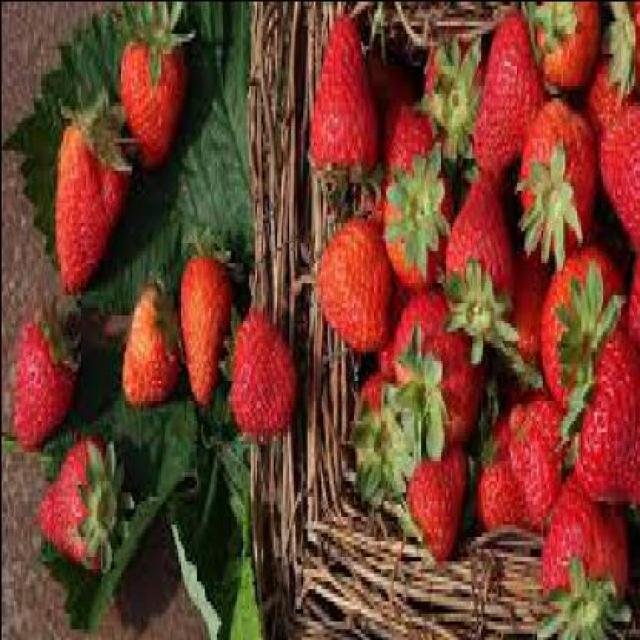BIODEGRADABLE: (9, 2, 261, 639), (355, 291, 479, 502), (310, 15, 381, 228), (55, 94, 130, 293), (445, 171, 516, 363), (541, 248, 622, 416), (518, 100, 596, 267), (384, 106, 449, 289), (474, 10, 544, 178), (576, 326, 640, 502), (38, 436, 120, 571), (120, 2, 186, 168), (544, 476, 628, 594), (318, 219, 392, 351), (354, 340, 411, 503), (12, 313, 78, 448), (230, 308, 296, 442), (501, 395, 562, 527), (446, 171, 512, 293), (179, 255, 232, 406), (478, 376, 524, 531), (122, 284, 180, 406), (422, 36, 479, 159), (406, 445, 466, 561), (526, 2, 598, 88), (600, 104, 640, 252), (394, 292, 448, 393), (512, 254, 550, 361), (386, 105, 434, 171), (479, 460, 524, 530), (609, 1, 635, 97), (588, 61, 622, 132), (183, 224, 233, 263), (629, 255, 640, 344), (153, 264, 175, 300)
